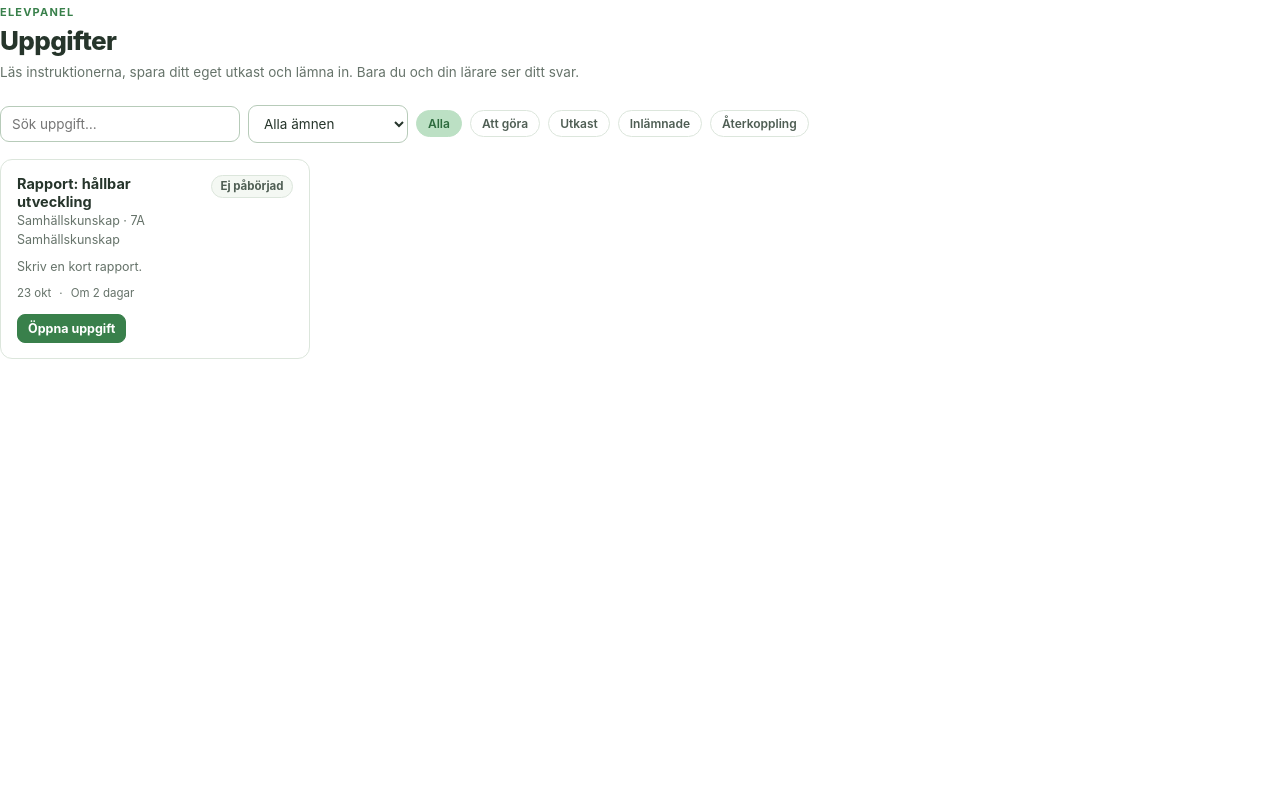
Test case: ElevUppgifter › sparar ett utkast och visar att det är sparat
The width and height of the screenshot is (1280, 800).
Check: the heading "Rapport: hållbar utveckling" is shown, box [17,175,131,210]
Click the button "Öppna uppgift": (72, 328) [17,314,126,343]
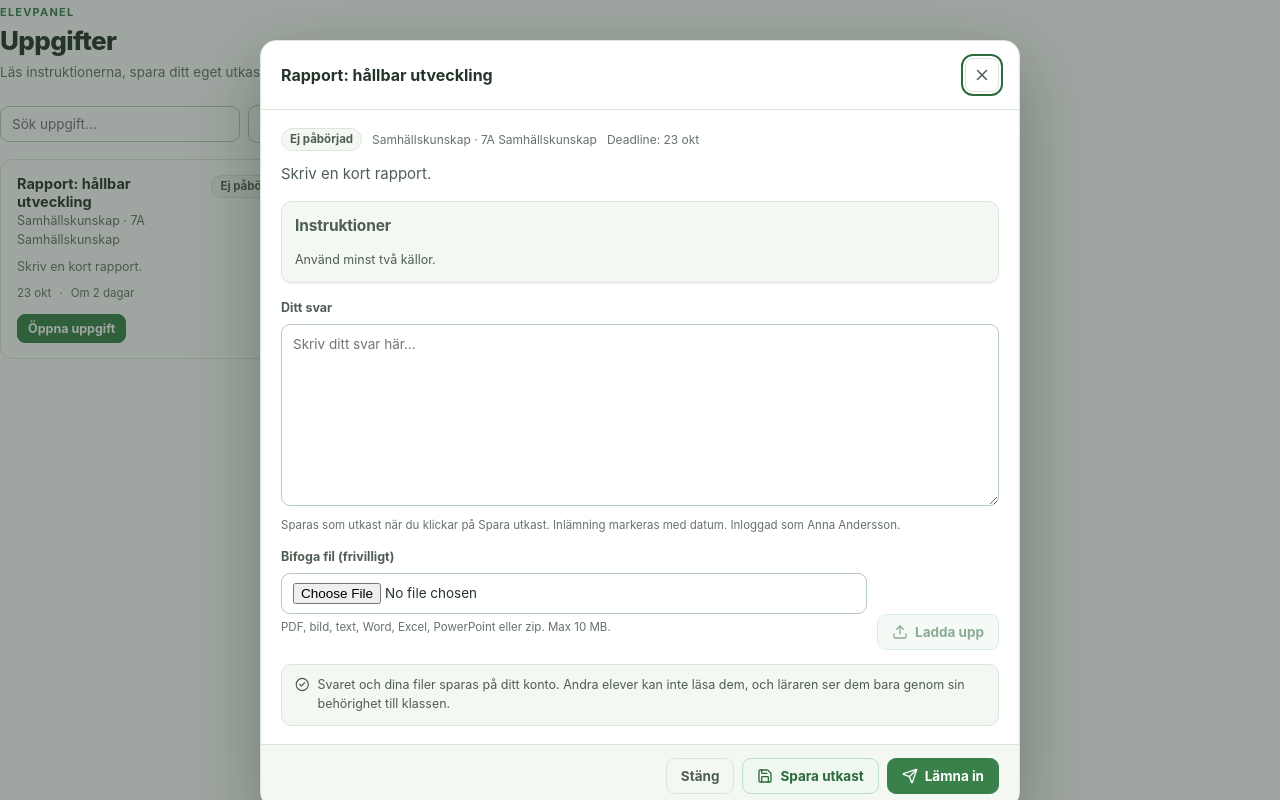
In the text box labelled "Ditt svar": (640, 414) [281,324,999,506], type "Nytt utkast"
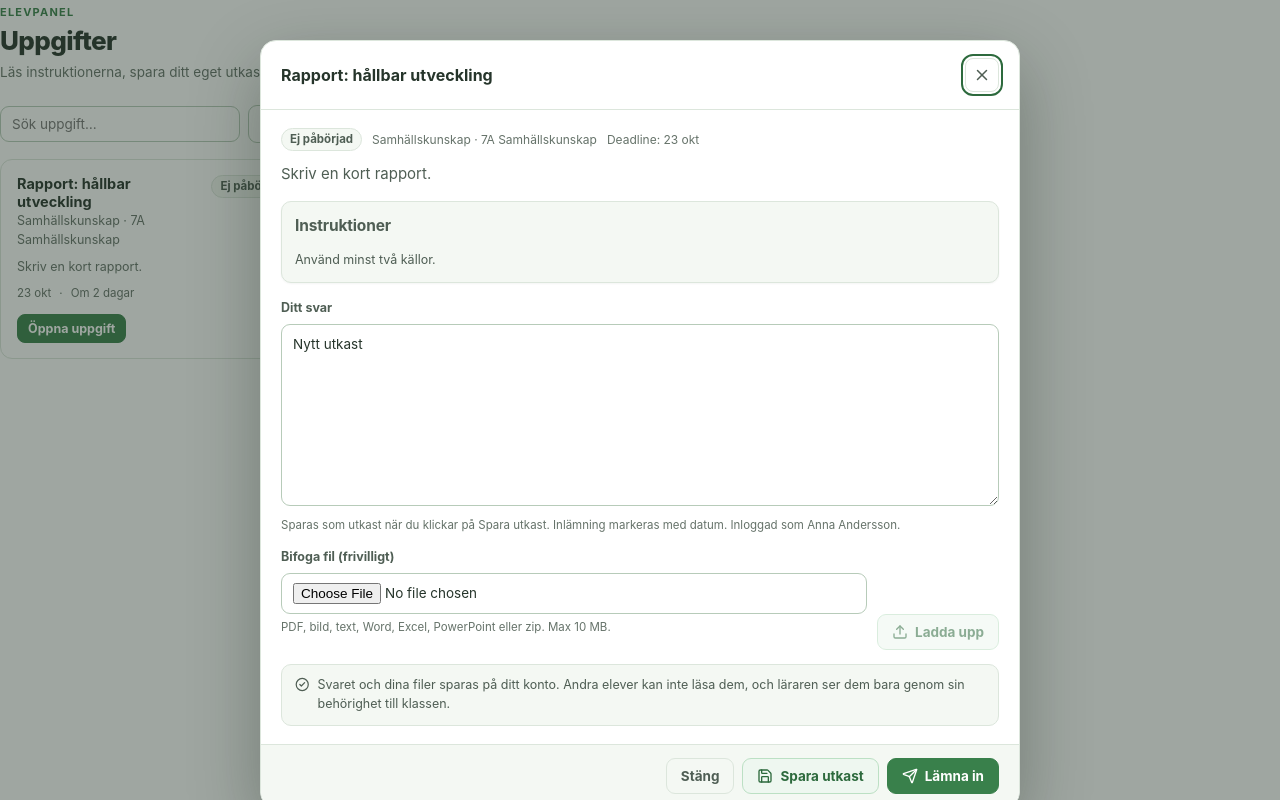
Click the button "Spara utkast": (811, 776) [742,758,879,794]
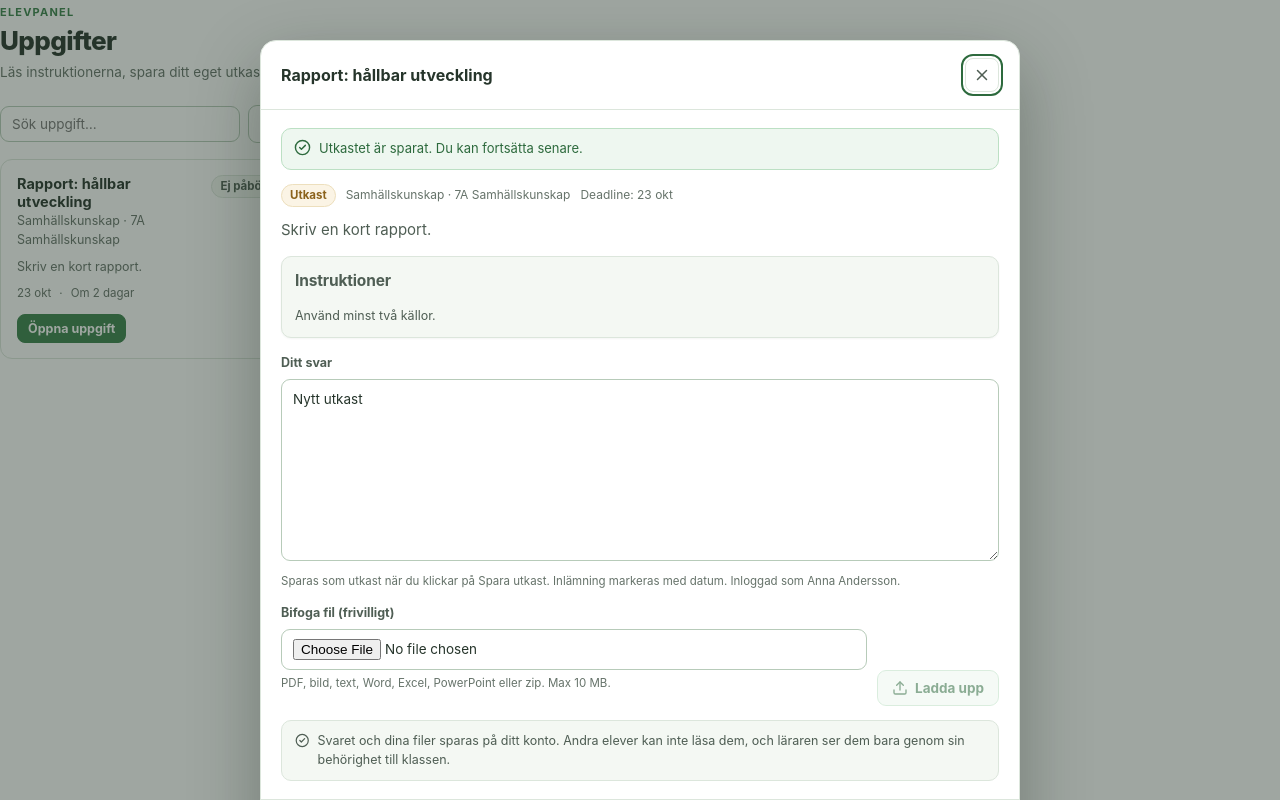
Check: the text "Utkastet är sparat. Du kan fortsätta senare." is shown, box [319,139,583,158]
